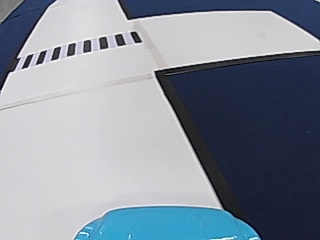CrossWalk: (19, 31, 140, 66)
